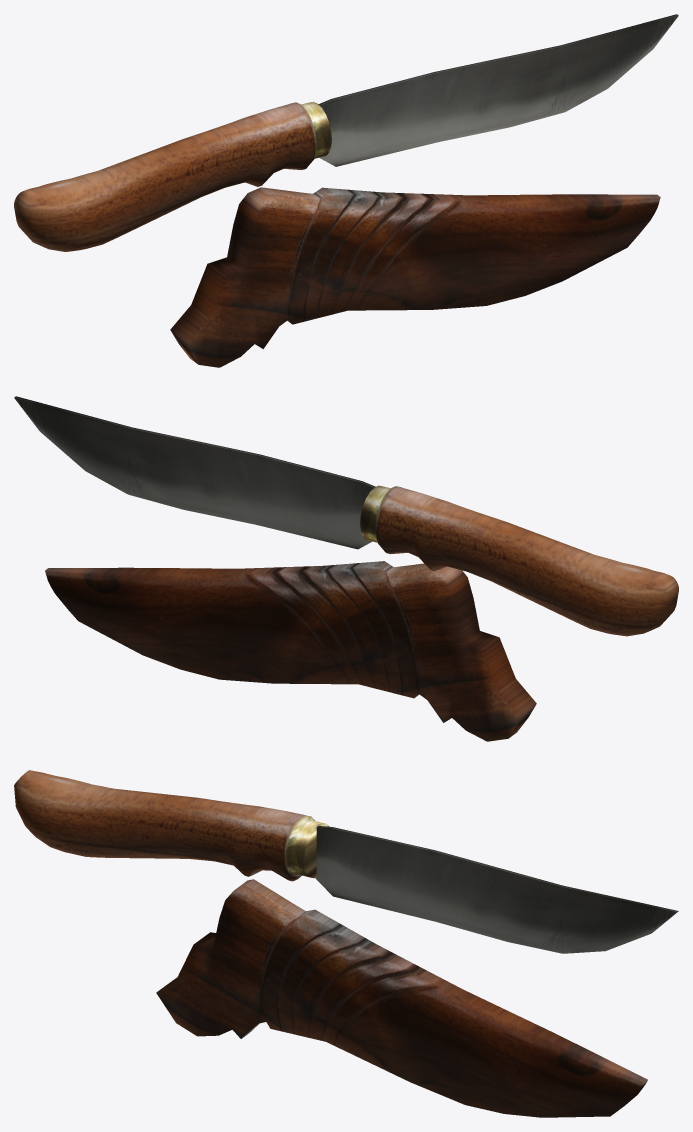
File: pisau wedhung.fbx
The picture shows the model from 3 angles, top to bottom: view 1: azimuth 30°, elevation 25°; view 2: azimuth 150°, elevation 25°; view 3: azimuth 330°, elevation 25°; orthographic projection.
Parts seen in each view (by area): view 1: polySurface1, polySurface2, pCylinder1; view 2: polySurface1, polySurface2, pCylinder1; view 3: polySurface1, polySurface2, pCylinder1.
Part boxes in pixels (x1,y1,x2,y2): polySurface1: [170, 187, 660, 367]; polySurface2: [318, 14, 678, 166]; pCylinder1: [14, 101, 331, 251]; polySurface1: [45, 561, 536, 741]; polySurface2: [14, 396, 375, 549]; pCylinder1: [360, 485, 678, 636]; polySurface1: [156, 879, 647, 1117]; polySurface2: [315, 826, 678, 953]; pCylinder1: [14, 770, 328, 881].
Bounding box in the file's own units: 110 × 37.5 × 10.47.
Materials: 1 (1 with a texture image).
